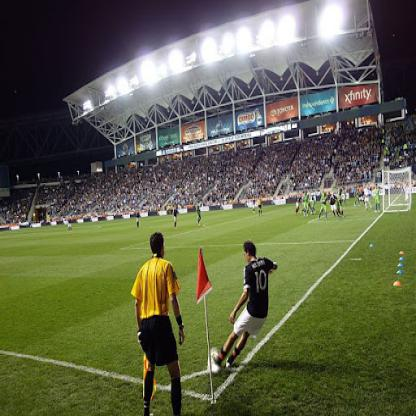corner kick: (180, 223, 283, 406)
